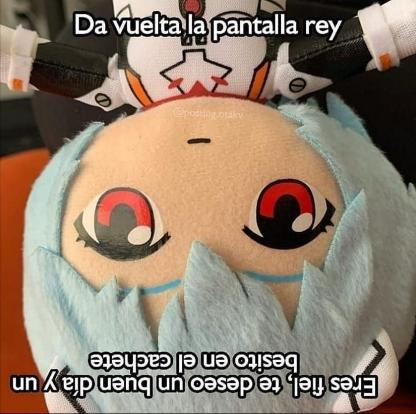rei-plush: (0, 60, 416, 412)
